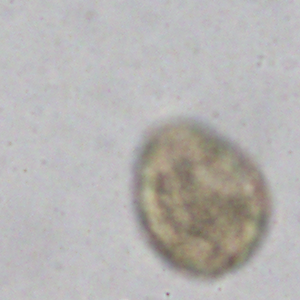Fasciola_hepatica_egg: (131, 112, 272, 280)
